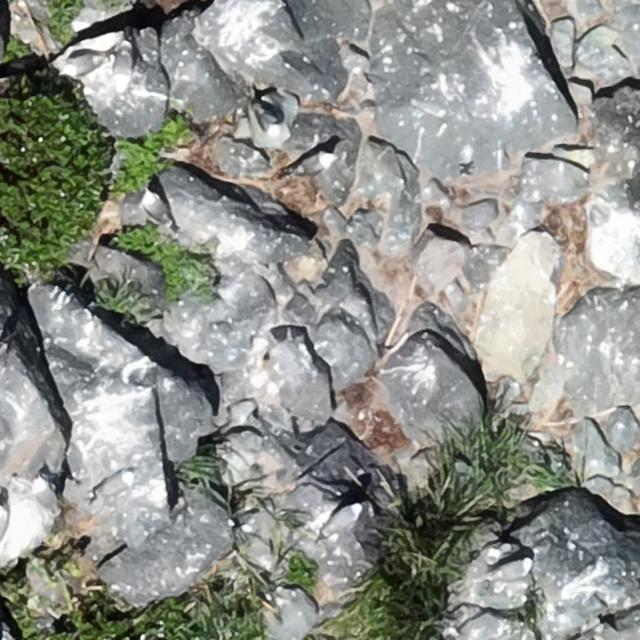umineko: (250, 99, 283, 138), (113, 33, 133, 92), (31, 476, 60, 516), (100, 473, 128, 496), (145, 191, 167, 220), (68, 54, 100, 73), (295, 155, 327, 173), (497, 562, 527, 580)
